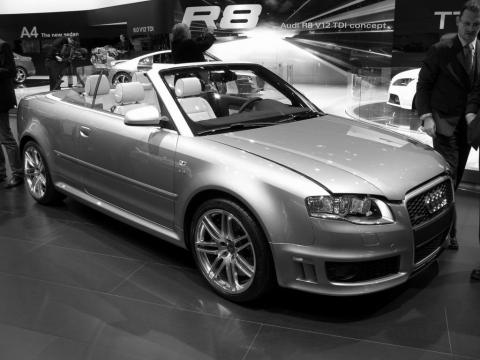car: (19, 63, 457, 306)
